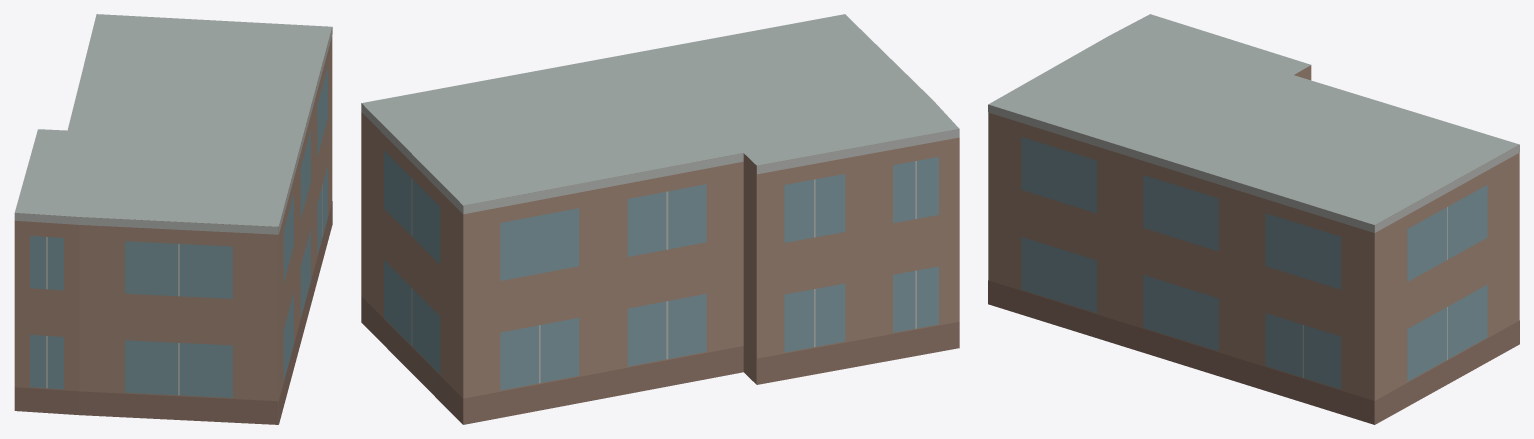
File: survey-upis-32638183.glb
3 renders of one model, left to right at view 1: azimuth 30°, elevation 25°; view 2: azimuth 150°, elevation 25°; view 3: azimuth 270°, elevation 25°, orthographic. The views are drawn at different scales.
Parts seen in each view (by area): view 1: survey-upis-32638183.tmp; view 2: survey-upis-32638183.tmp; view 3: survey-upis-32638183.tmp.
Boxes of the visible parts, <box> form: survey-upis-32638183.tmp: <box>14,14,332,424</box>; survey-upis-32638183.tmp: <box>361,14,959,424</box>; survey-upis-32638183.tmp: <box>988,14,1519,424</box>.
Size of the model in its own units: 13.83 by 6.1 by 14.72.
